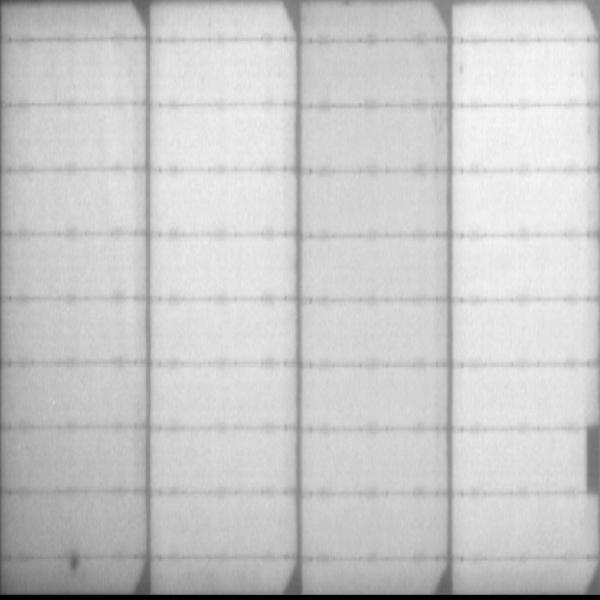black_border: (582, 422, 600, 503)
